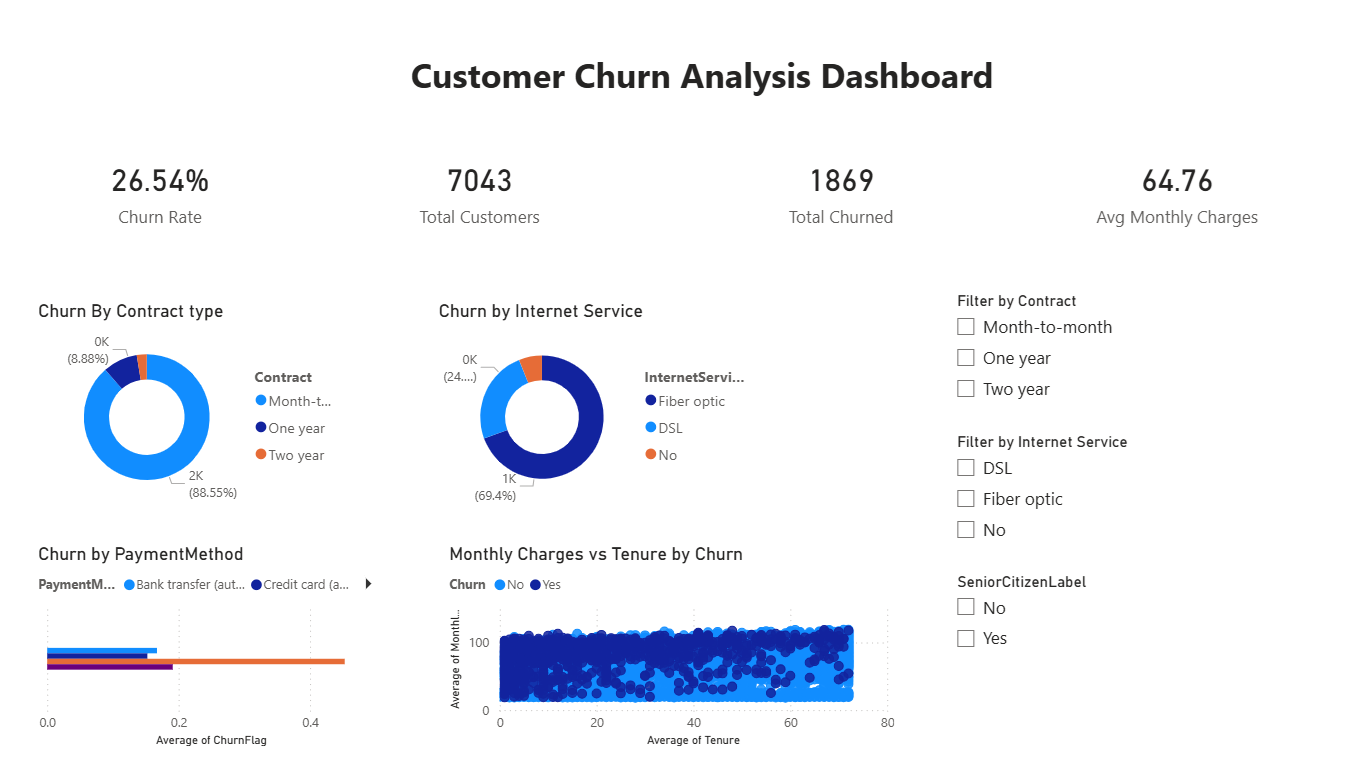

This screenshot's page, from the dashboard's own definition file:
{"tool":"powerbi","page":{"name":"Page 1","canvas":[1280,720],"ordinal":0},"visuals":[{"type":"textbox","box":[282.5,0,752.5,281.2],"z":0},{"type":"card","title":"Churn Rate","fields":{"Values":["Avg(Data.ChurnFlag)"]},"box":[0,111.2,300,133.8],"z":1000},{"type":"card","fields":{"Values":["CountNonNull(Data.ChurnFlag)"]},"box":[300,111.1,300,133.3],"z":1001},{"type":"card","fields":{"Values":["Sum(Data.ChurnFlag)"]},"box":[640,111.1,300,133.3],"z":1002},{"type":"card","fields":{"Values":["Avg(Data.MonthlyCharges)"]},"box":[955.6,111.1,300,133.3],"z":1003},{"type":"donutChart","title":"Churn By Contract type ","fields":{"Category":["Data.Contract"],"Y":["Sum(Data.ChurnFlag)"]},"box":[31.1,281.1,300,200],"z":1004},{"type":"donutChart","title":"Churn by Internet Service","fields":{"Category":["Data.InternetService"],"Y":["Sum(Data.ChurnFlag)"]},"box":[406.7,281.1,300,200],"z":1005},{"type":"clusteredBarChart","title":"Churn by PaymentMethod","fields":{"Series":["Data.PaymentMethod"],"Y":["Avg(Data.ChurnFlag)"]},"box":[31.1,510,334.4,195.6],"z":1006},{"type":"scatterChart","title":"Monthly Charges vs Tenure by Churn","fields":{"X":["Avg(Data.Tenure)"],"Y":["Avg(Data.MonthlyCharges)"],"Series":["Data.Churn"],"Category":["Data.CustomerID"]},"box":[416.7,510,427.8,195.6],"z":1007},{"type":"slicer","fields":{"Values":["Data.Contract"]},"box":[885.6,268.9,181.1,123.3],"z":1008},{"type":"slicer","fields":{"Values":["Data.InternetService"]},"box":[885.6,401.1,231.1,123.3],"z":1009},{"type":"slicer","fields":{"Values":["Data.SeniorCitizenLabel"]},"box":[885.6,532.2,188.9,150],"z":1010}]}

Visuals, with their boxes in screenshot pixels (x1, y1, x2, y2), scaled from the page's 1280x720 canvas onto the 1362x767 screenshot:
textbox: BBox(301, 0, 1101, 300)
"Churn Rate" card: BBox(0, 118, 319, 261)
card - CountNonNull(Data.ChurnFlag): BBox(319, 118, 638, 260)
card - Sum(Data.ChurnFlag): BBox(681, 118, 1000, 260)
card - Avg(Data.MonthlyCharges): BBox(1017, 118, 1336, 260)
"Churn By Contract type " donutChart: BBox(33, 299, 352, 513)
"Churn by Internet Service" donutChart: BBox(433, 299, 752, 513)
"Churn by PaymentMethod" clusteredBarChart: BBox(33, 543, 389, 752)
"Monthly Charges vs Tenure by Churn" scatterChart: BBox(443, 543, 899, 752)
slicer - Data.Contract: BBox(942, 286, 1135, 418)
slicer - Data.InternetService: BBox(942, 427, 1188, 559)
slicer - Data.SeniorCitizenLabel: BBox(942, 567, 1143, 727)
